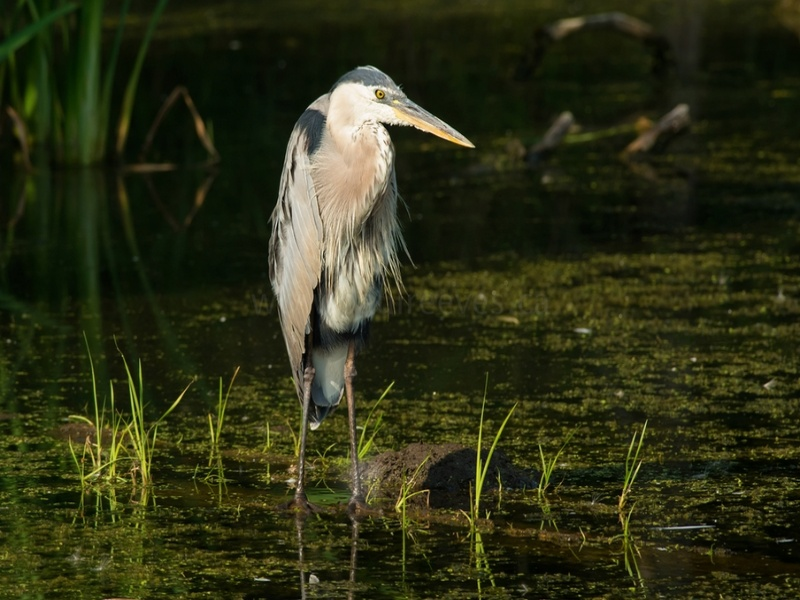heron: (258, 54, 479, 523)
